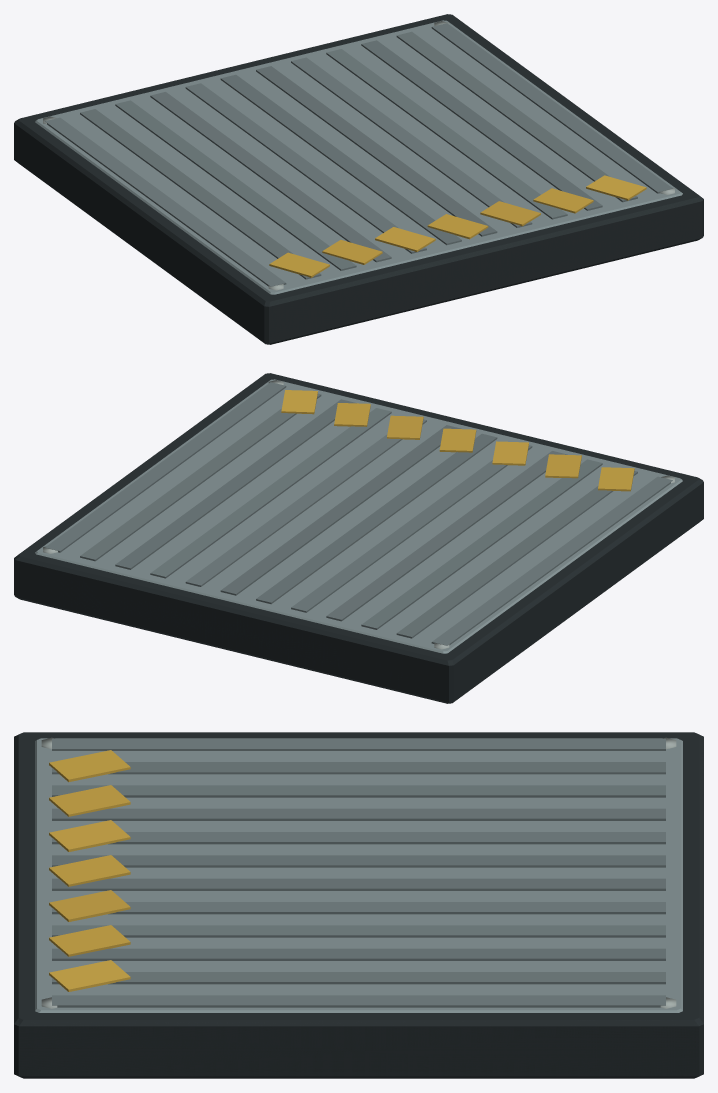
Rendered from cinder-industrial-kit.glb.
3 views of the same model, one above another, from view 1: azimuth 30°, elevation 25°; view 2: azimuth 150°, elevation 25°; view 3: azimuth 270°, elevation 25° (orthographic). The views are drawn at different scales.
Visible parts, largest first — view 1: Kit_FloorGrate_Surface_Mesh, Kit_FloorHazard_Surface_Mesh; view 2: Kit_FloorHazard_Surface_Mesh, Kit_FloorGrate_Surface_Mesh; view 3: Kit_FloorGrate_Surface_Mesh, Kit_FloorHazard_Surface_Mesh.
Part boxes in pixels (box(x1,y1,x2,y2)): Kit_FloorGrate_Surface_Mesh: box(14, 14, 703, 344); Kit_FloorHazard_Surface_Mesh: box(14, 14, 703, 344); Kit_FloorHazard_Surface_Mesh: box(14, 374, 703, 703); Kit_FloorGrate_Surface_Mesh: box(14, 373, 703, 703); Kit_FloorGrate_Surface_Mesh: box(14, 732, 703, 1078); Kit_FloorHazard_Surface_Mesh: box(14, 732, 703, 1078).
Bounding box in the file's own units: 1 × 0.104 × 1.
